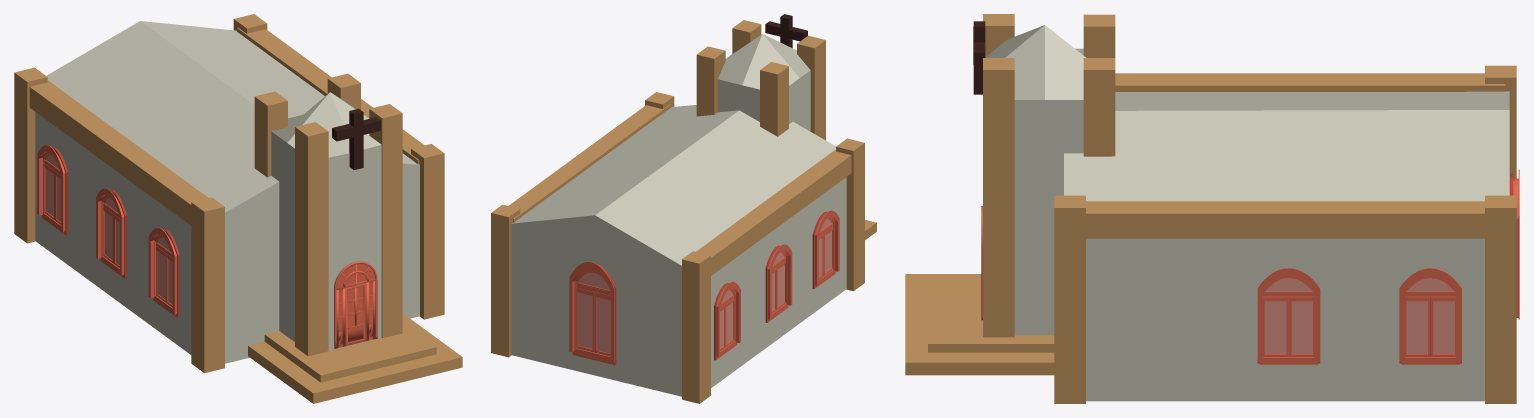
File: IGREJA (1).fbx
3 renders of one model, left to right at view 1: azimuth 30°, elevation 25°; view 2: azimuth 150°, elevation 25°; view 3: azimuth 270°, elevation 25°, orthographic. The views are drawn at different scales.
Visible parts, largest first — view 1: Cube, Cube.001, Cube.005, Cube.013, Cube.009, Cube.004, Cube.014, Cube.015, Cube.008, Cube.011, AnyConv.com__829, Cube.012 (+11 smaller); view 2: Cube, Cube.013, Cube.001, Cube.011, Cube.010, Cube.012, Cube.009, Cube.006, Cube.005, Window.002, Cube.007, Window Panel.013 (+12 smaller); view 3: Cube, Cube.001, Cube.012, Cube.004, Cube.013, Cube.008, Cube.010, Cube.014, Cube.015, Cube.007, Window.004, Window.003 (+11 smaller).
Part boxes in pixels (x1,y1,x2,y2): Cube: (35, 21, 419, 363); Cube.001: (271, 92, 381, 350); Cube.005: (295, 122, 328, 356); Cube.013: (29, 80, 208, 225); Cube.009: (191, 197, 224, 373); Cube.004: (369, 104, 402, 338); Cube.014: (248, 313, 462, 403); Cube.015: (264, 322, 436, 382); Cube.008: (411, 144, 444, 319); Cube.011: (14, 67, 47, 243); AnyConv.com__829: (334, 261, 377, 348); Cube.012: (237, 27, 424, 164); Cube: (511, 105, 846, 396); Cube.013: (696, 149, 851, 275); Cube.001: (717, 34, 810, 131); Cube.011: (682, 251, 710, 403); Cube.010: (491, 204, 520, 357); Cube.012: (509, 104, 670, 222); Cube.009: (836, 138, 864, 291); Cube.006: (760, 62, 788, 136); Cube.005: (797, 35, 825, 140); Window.002: (569, 261, 616, 365); Cube.007: (696, 46, 725, 116); Window Panel.013: (576, 287, 594, 352); Cube: (1064, 91, 1509, 401); Cube.001: (985, 25, 1085, 335); Cube.012: (1086, 201, 1484, 238); Cube.004: (983, 58, 1014, 337); Cube.013: (1115, 73, 1505, 91); Cube.008: (1054, 195, 1085, 403); Cube.010: (1485, 195, 1516, 403); Cube.014: (905, 274, 1054, 375); Cube.015: (928, 275, 1054, 352); Cube.007: (1083, 58, 1115, 156); Window.004: (1257, 268, 1320, 364); Window.003: (1399, 268, 1461, 364).
Bounding box in the file's own units: 1525 × 1533 × 2745.
